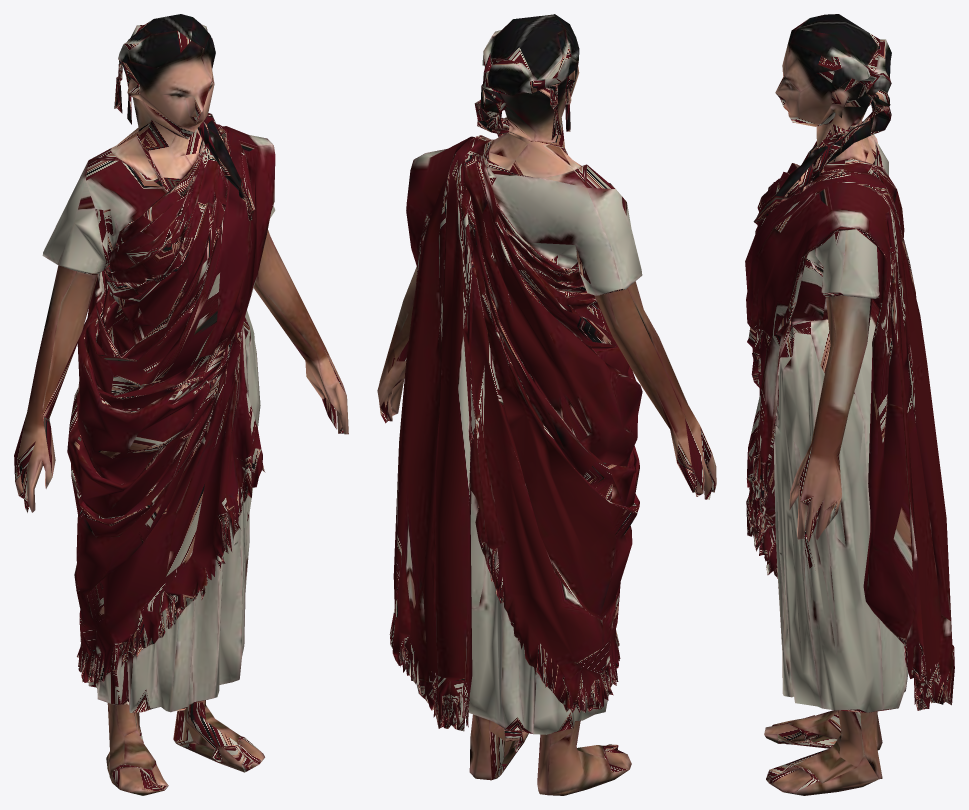
The model's file is matrona.glb.
3 renders of one model, left to right at view 1: azimuth 30°, elevation 25°; view 2: azimuth 150°, elevation 25°; view 3: azimuth 270°, elevation 25°, orthographic.
Visible parts, largest first — view 1: matrona; view 2: matrona; view 3: matrona.
Boxes of the visible parts, box(x1,y1,x2,y2) form: matrona: box(14, 14, 348, 795); matrona: box(377, 14, 716, 795); matrona: box(745, 14, 954, 795).
Size of the model in its own units: 0.8265 by 1.8 by 0.4611.
Materials: 1 (1 with a texture image).
